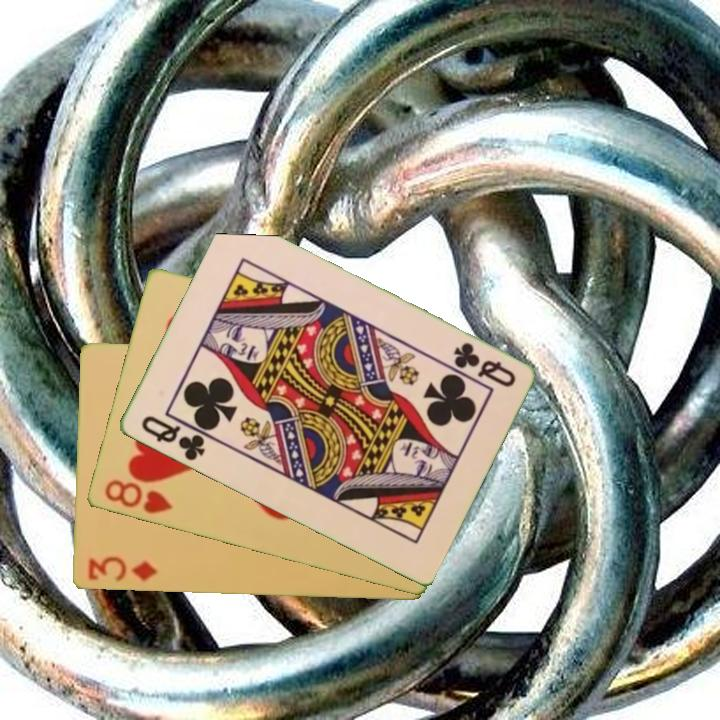3d: (85, 554, 160, 585)
8h: (100, 476, 175, 518)
Qc: (137, 412, 208, 464), (449, 339, 518, 391)
